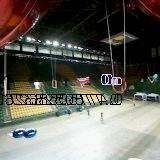Orange_Square_GShape: (51, 79, 58, 89)
Yellow_Triangle_Gshape: (147, 75, 156, 83)
